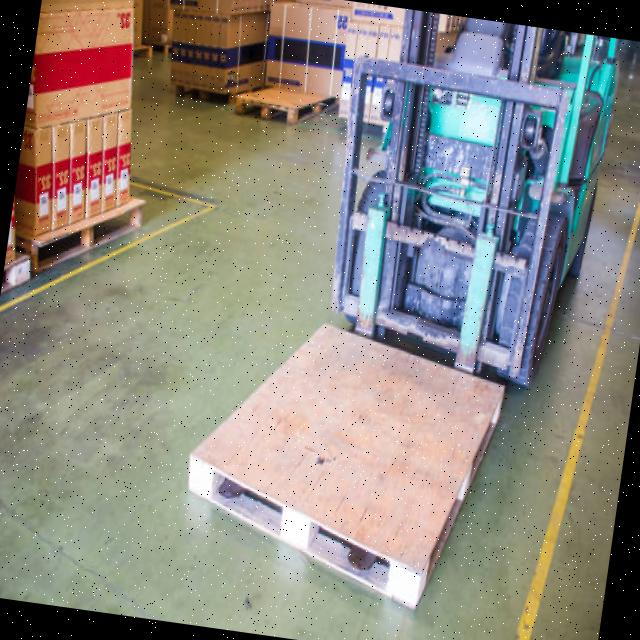Wooden-Pallets: (179, 319, 507, 617), (30, 192, 146, 277), (232, 82, 302, 142)
